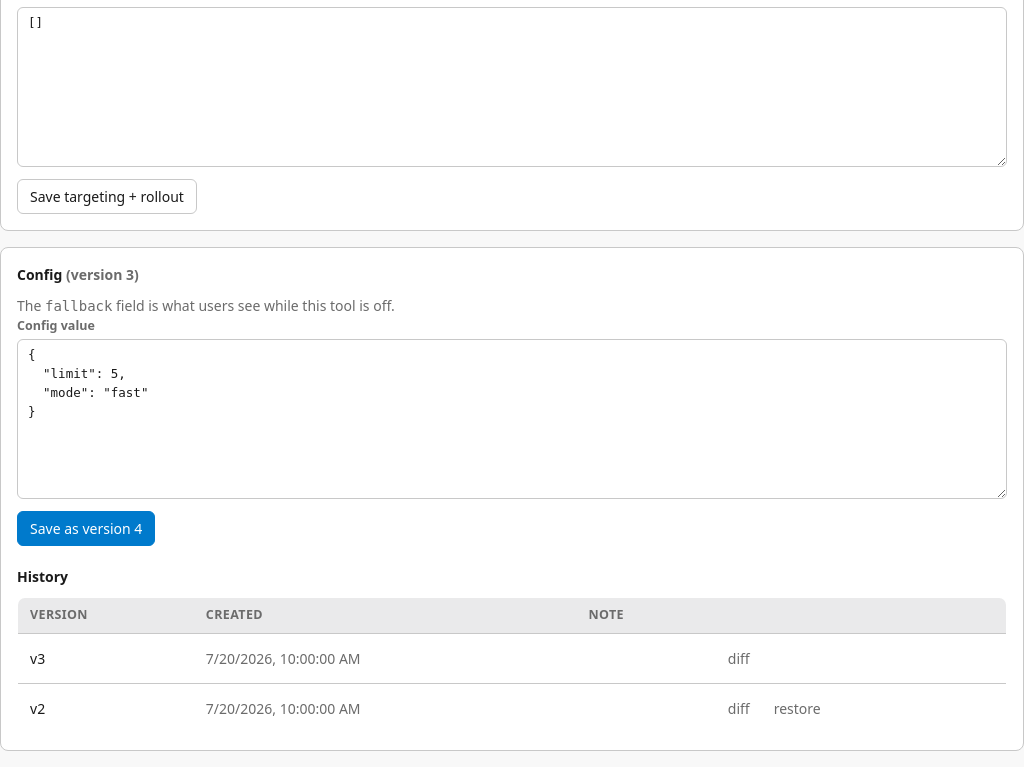
Test case: config panel › surfaces a rejected save
(page scrolled)
Expected: the text box labelled "Config value" is shown, [17,339,1007,499]
Step 1. Click the button "Save as version 4" → (86, 529), box [17,511,155,546]
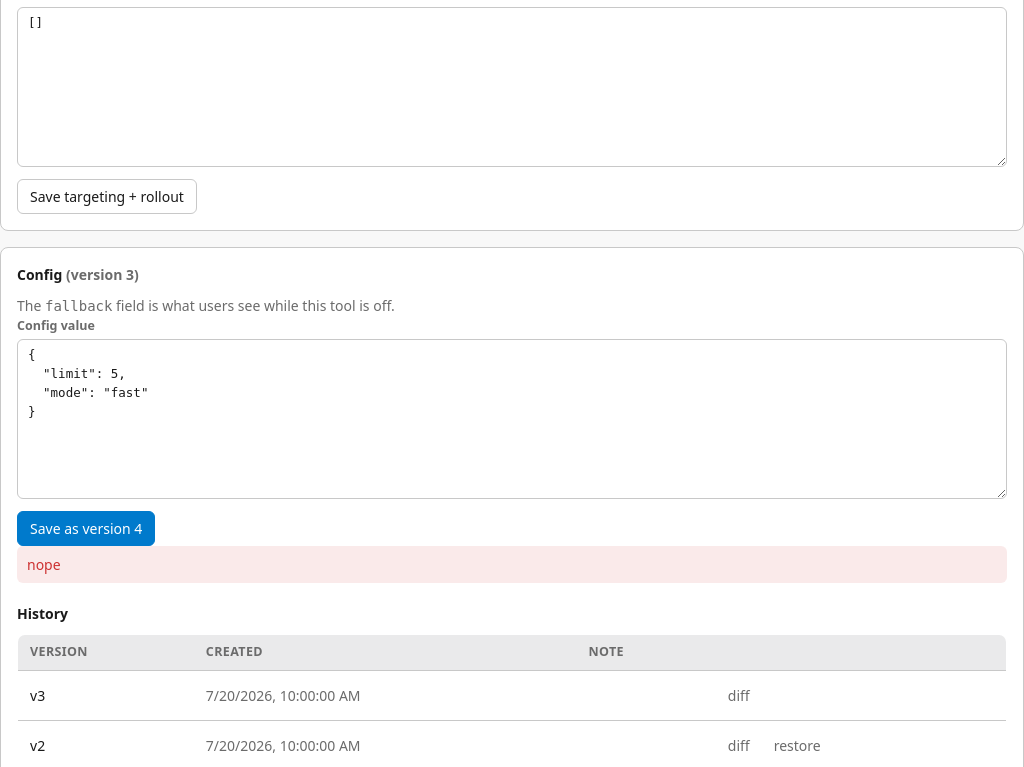
Result: the text "nope" is shown at [17,546,1007,583]
